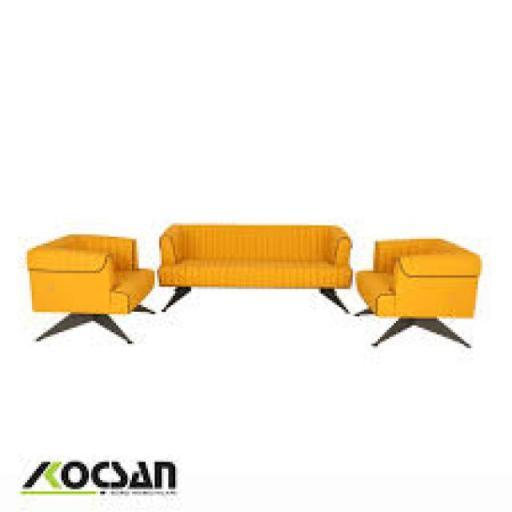sofa: (18, 196, 512, 450)
